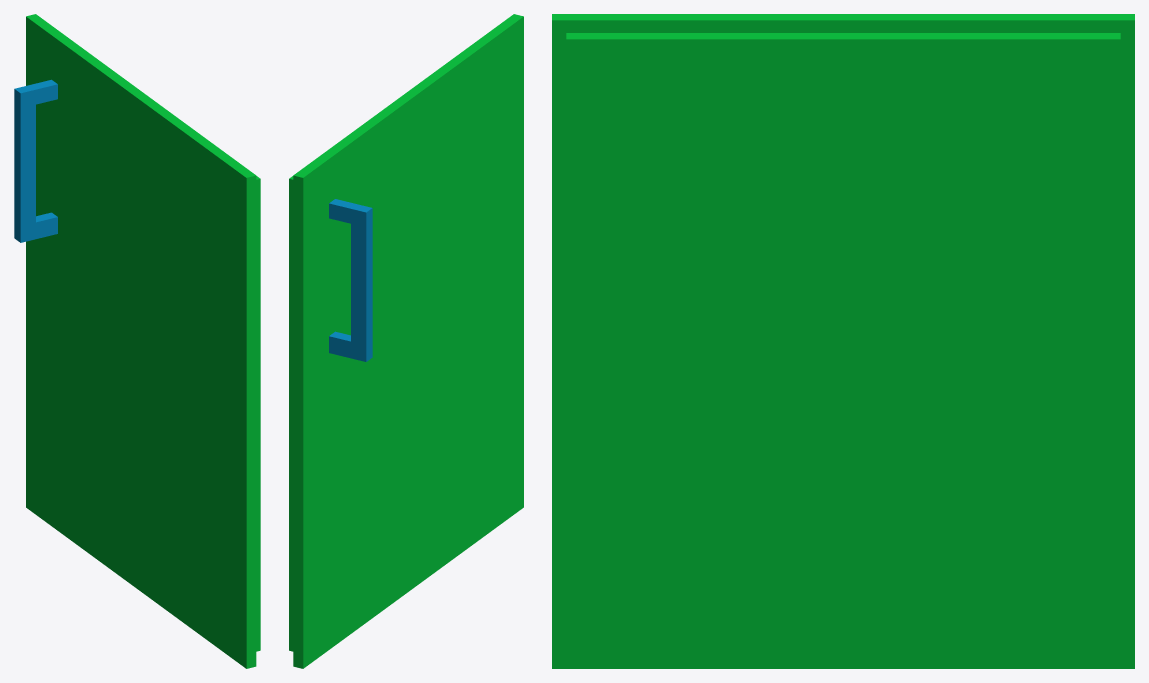
The model's file is canhtulanh1.obj.
The picture shows the model from 3 angles, left to right: view 1: azimuth 30°, elevation 25°; view 2: azimuth 150°, elevation 25°; view 3: azimuth 270°, elevation 25°; orthographic projection. The views are drawn at different scales.
Parts seen in each view (by area): view 1: canhtulanh1.001; view 2: canhtulanh1.001; view 3: canhtulanh1.001.
Boxes of the visible parts, <box> form: canhtulanh1.001: <box>14,14,260,668</box>; canhtulanh1.001: <box>289,14,523,668</box>; canhtulanh1.001: <box>552,14,1134,668</box>.
Size of the model in its own units: 0.3841 by 3.17 by 2.58.
